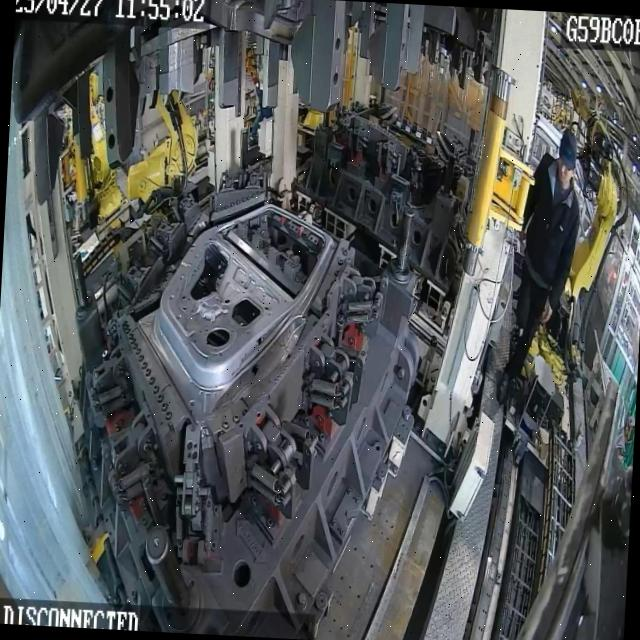Person: (494, 126, 584, 410)
